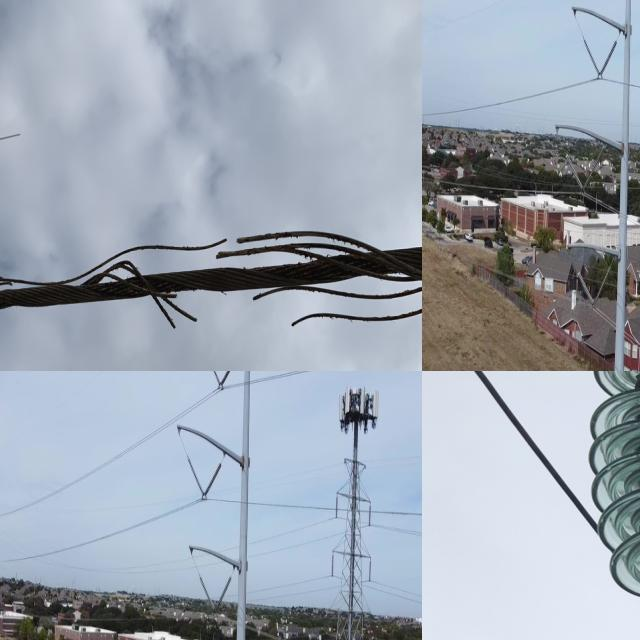杆塔: (310, 453, 380, 640)
正常绝缘子: (570, 371, 640, 612), (183, 448, 210, 506), (209, 570, 235, 628), (198, 456, 226, 508), (194, 566, 219, 616), (594, 38, 619, 84), (579, 151, 604, 195), (590, 265, 612, 312), (563, 151, 587, 193), (582, 37, 604, 81), (576, 269, 598, 311), (364, 491, 377, 531), (327, 546, 339, 586), (332, 486, 343, 528), (364, 550, 375, 592), (215, 371, 233, 394), (210, 371, 225, 393)
电缆破损: (0, 204, 422, 343)
